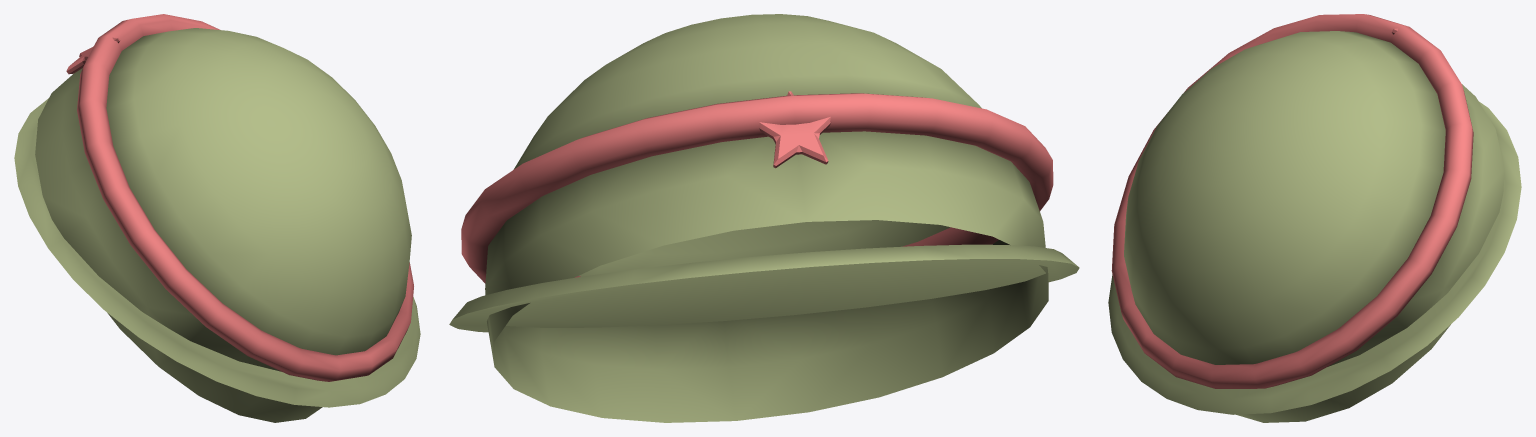
File: army_helmet_red.fbx
3 renders of one model, left to right at view 1: azimuth 30°, elevation 25°; view 2: azimuth 150°, elevation 25°; view 3: azimuth 270°, elevation 25°, orthographic. The views are drawn at different scales.
Parts seen in each view (by area): view 1: army_helmet_red; view 2: army_helmet_red; view 3: army_helmet_red.
Part boxes in pixels (bbox=[...]): army_helmet_red: bbox=[14, 14, 420, 422]; army_helmet_red: bbox=[449, 14, 1079, 422]; army_helmet_red: bbox=[1108, 14, 1521, 422].
Size of the model in its own units: 1.38 by 1.17 by 1.35.
